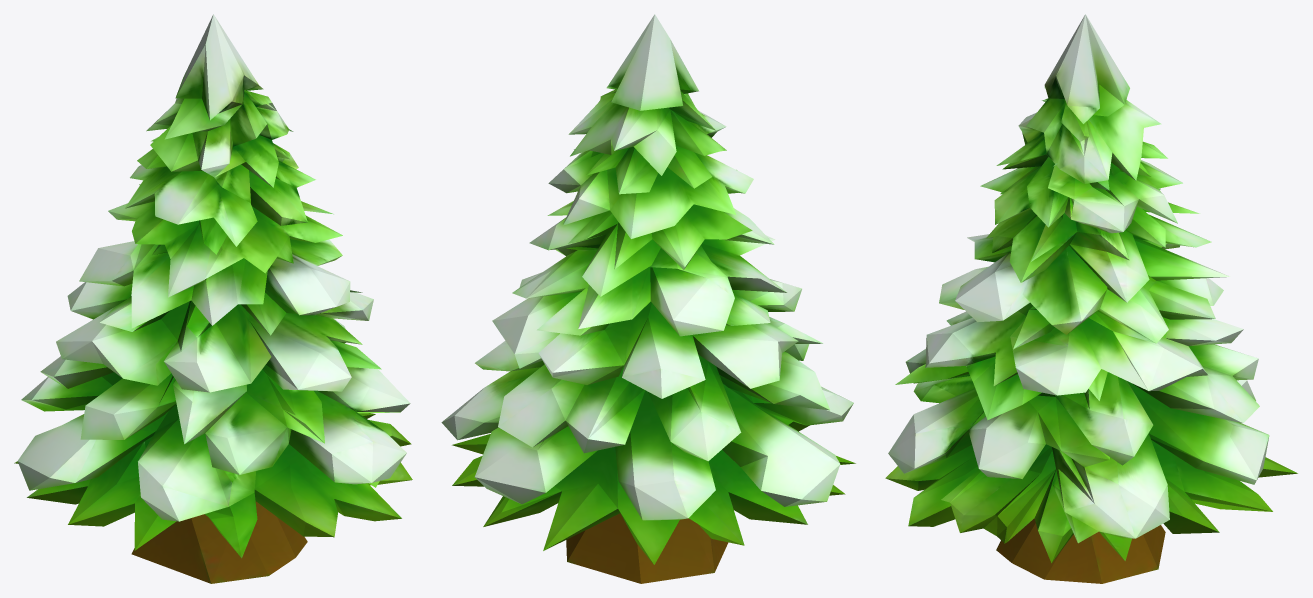
The model's file is pineTree.glb.
3 renders of one model, left to right at view 1: azimuth 30°, elevation 25°; view 2: azimuth 150°, elevation 25°; view 3: azimuth 270°, elevation 25°, orthographic.
Parts seen in each view (by area): view 1: model; view 2: model; view 3: model.
Boxes of the visible parts, box(x1,y1,x2,y2) form: model: box(14, 14, 412, 583); model: box(441, 14, 855, 583); model: box(885, 14, 1297, 583).
Size of the model in its own units: 1.38 by 1.92 by 1.35.
1 material, 1 textured.
